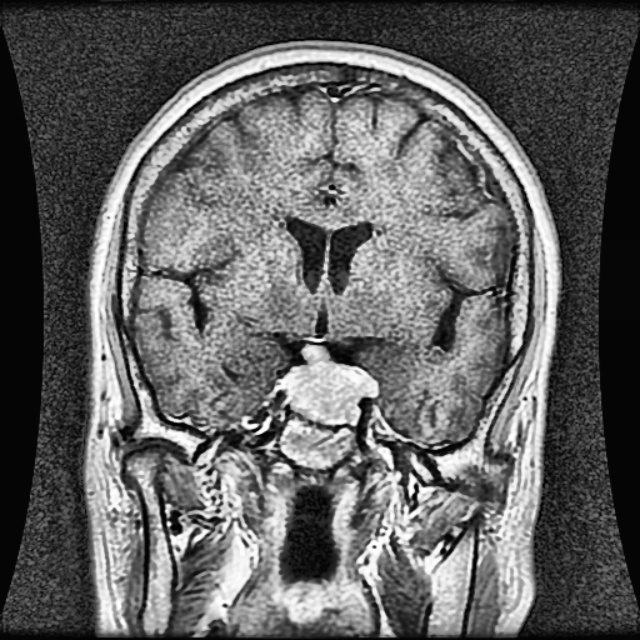Pituitary: (282, 347, 377, 425)
